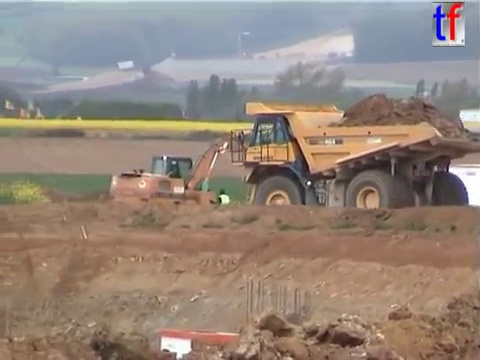excavator: (106, 130, 266, 224)
truck: (227, 99, 480, 232)
worker: (208, 187, 233, 221)
